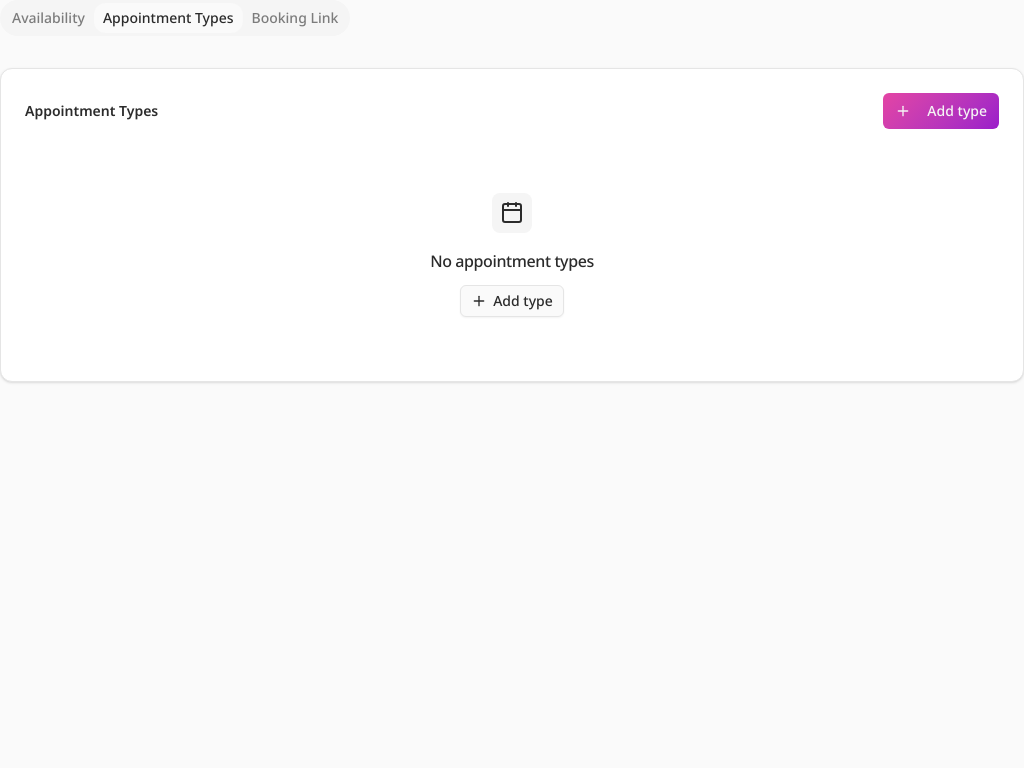
Test: AppointmentSettings scheduling fixes › shows a neutral empty state with a create action for appointment types
The width and height of the screenshot is (1024, 768).
expect the text "No appointment types" is shown: met, box top-left (430, 249), bottom-right (594, 273)
Click the button "Add type" below "No appointment types" at {"x": 512, "y": 301}, box top-left (460, 285), bottom-right (564, 317)
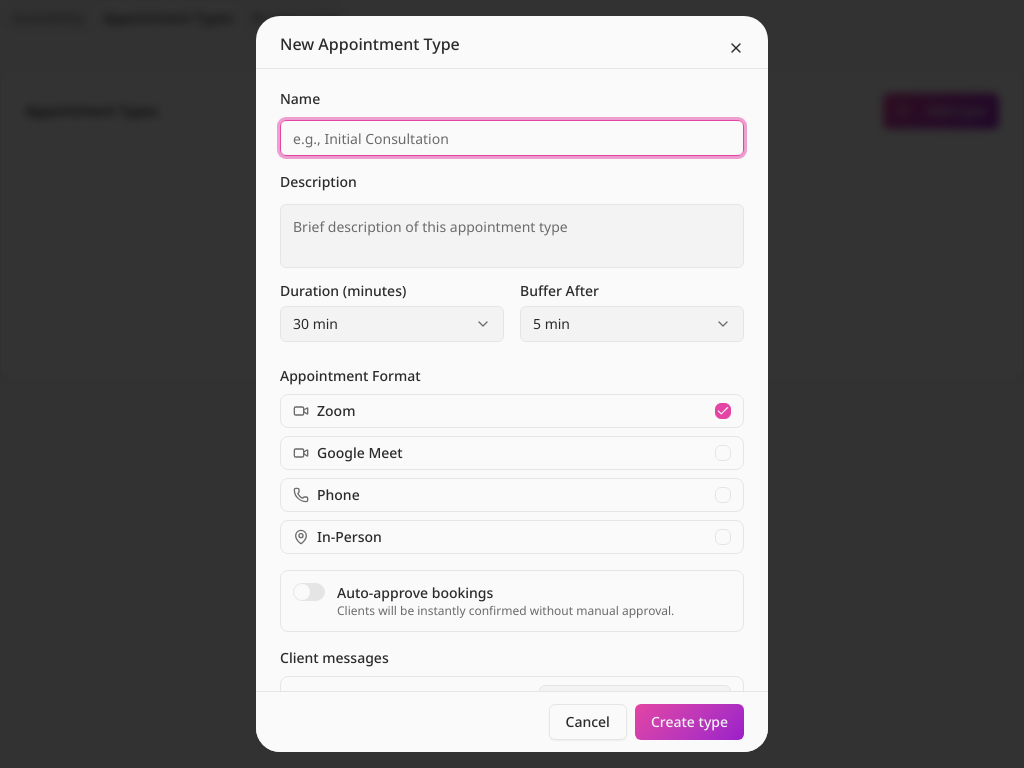
expect the dialog "New Appointment Type" is shown: met, box top-left (256, 16), bottom-right (768, 752)
